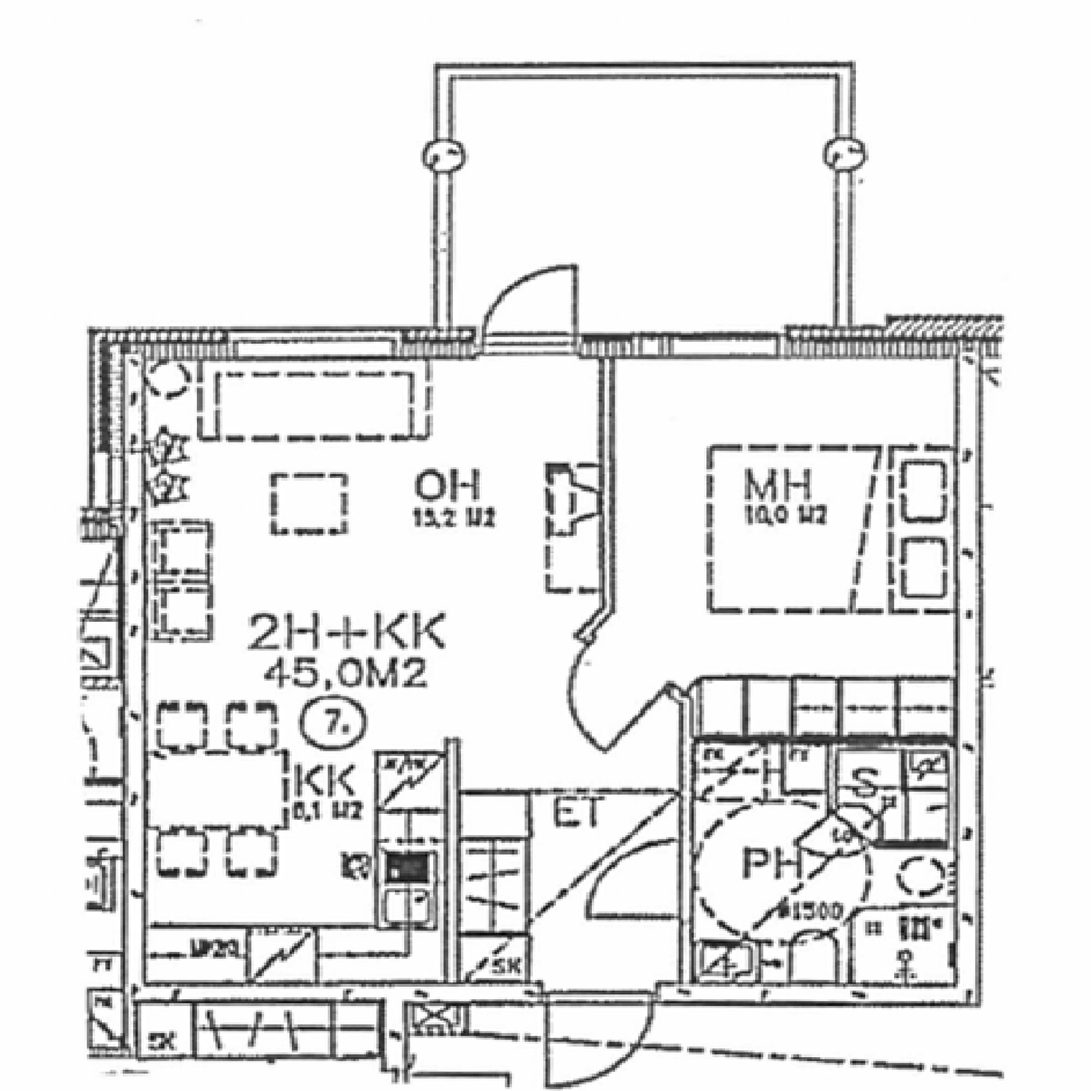wall: (120, 329, 983, 359), (120, 983, 983, 1005), (956, 329, 983, 1005), (120, 329, 146, 1005), (573, 630, 692, 706), (445, 737, 461, 1006), (680, 701, 693, 1006), (600, 329, 613, 608), (828, 808, 887, 849), (827, 736, 983, 751), (680, 736, 837, 747), (573, 604, 613, 631), (884, 841, 983, 849), (828, 737, 837, 812)
